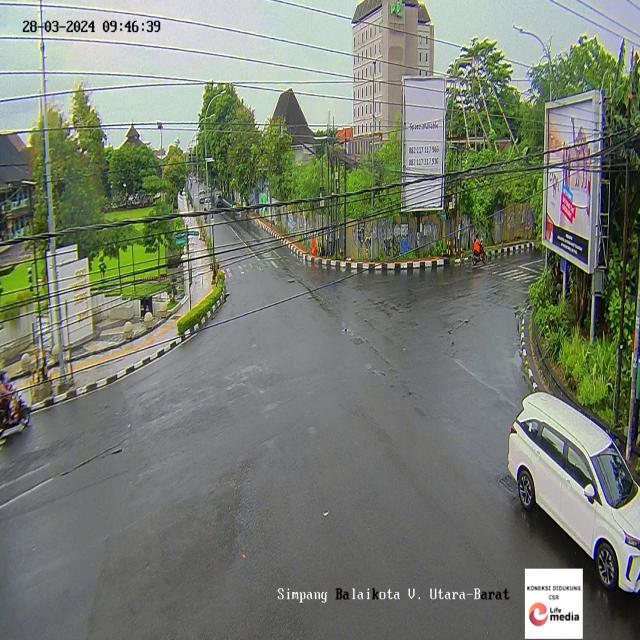car: (505, 391, 639, 598)
motorcycle: (0, 368, 33, 443), (473, 231, 483, 272)
